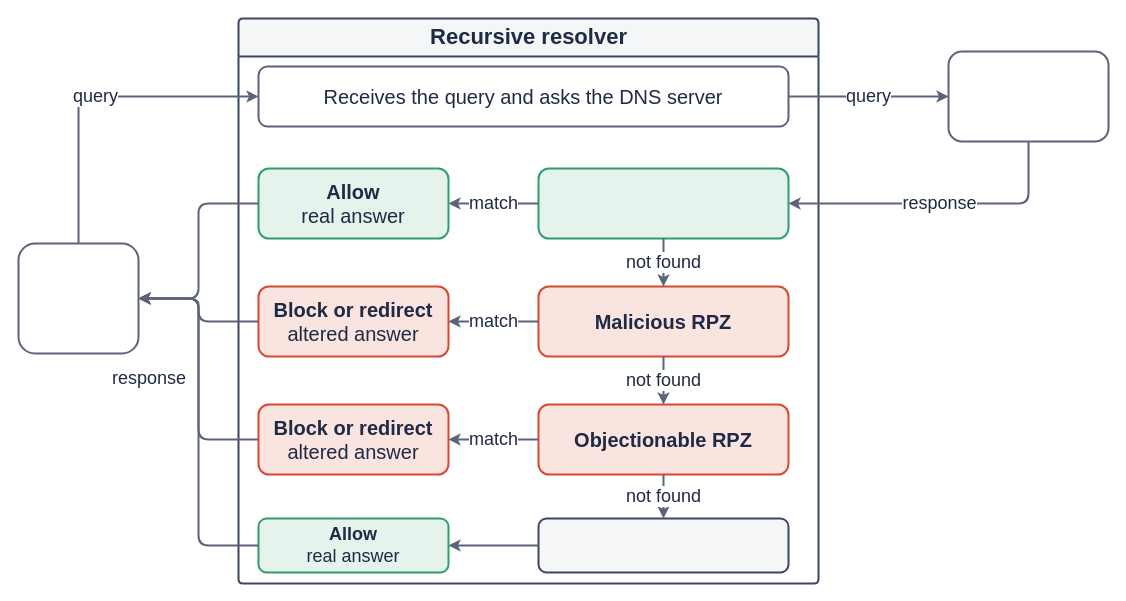
Some shapes in this 1126 by 601 pixel diagram are drawn without their labels. Each missing label, with the centre of its shape:
"Allow list RPZ" belongs at pixel 663 203.
"Client" belongs at pixel 78 298.
"DNS server" belongs at pixel 1028 96.
"No policy matched" belongs at pixel 663 545.
